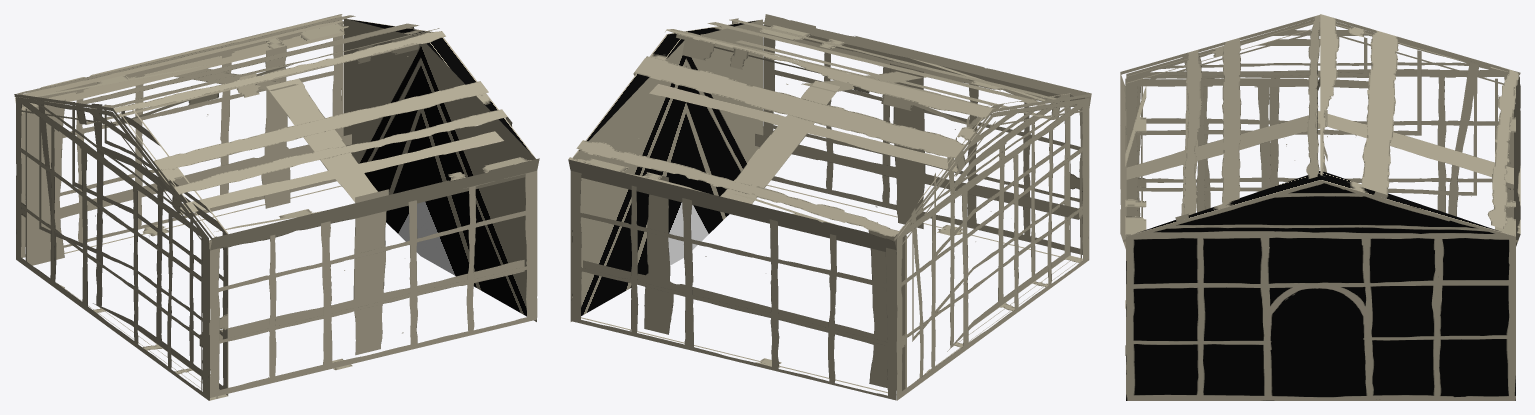
The model's file is greenhouse5024.fbx.
The picture shows the model from 3 angles, left to right: view 1: azimuth 30°, elevation 25°; view 2: azimuth 150°, elevation 25°; view 3: azimuth 270°, elevation 25°; orthographic projection.
Visible parts, largest first — view 1: Cube.001; view 2: Cube.001; view 3: Cube.001.
Boxes of the visible parts, bbox=[...] form: Cube.001: bbox=[14, 14, 539, 400]; Cube.001: bbox=[568, 14, 1091, 400]; Cube.001: bbox=[1120, 14, 1520, 400].
Bounding box in the file's own units: 235 × 153 × 246.
3 materials, 3 textured.
